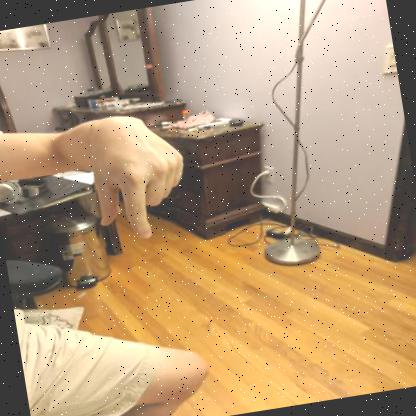Q: (78, 116, 183, 238)
